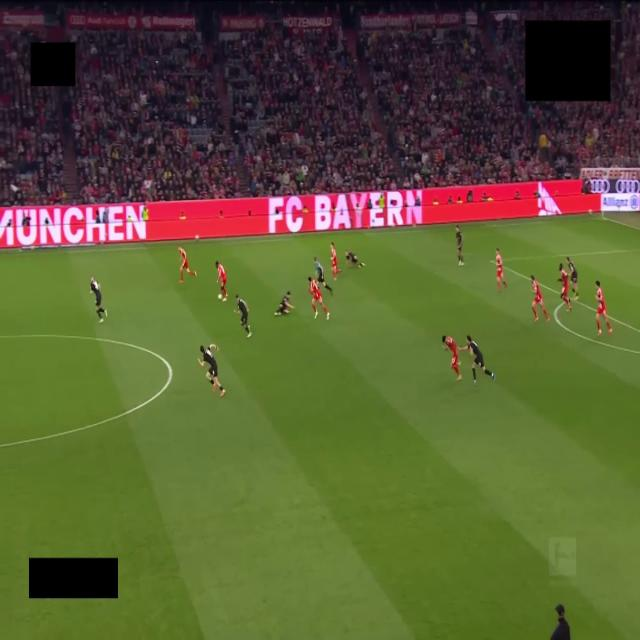ball: (218, 294, 222, 299)
player: (461, 335, 494, 384), (198, 344, 225, 397), (308, 277, 329, 319), (596, 280, 612, 335), (442, 336, 461, 380), (531, 275, 549, 321), (91, 277, 107, 323), (236, 295, 251, 337), (558, 264, 571, 310), (179, 248, 196, 283), (567, 257, 578, 300), (275, 291, 294, 315), (496, 248, 506, 292), (216, 261, 227, 301), (331, 242, 340, 279), (346, 251, 365, 267), (456, 225, 463, 265)
referee: (314, 257, 332, 295)
